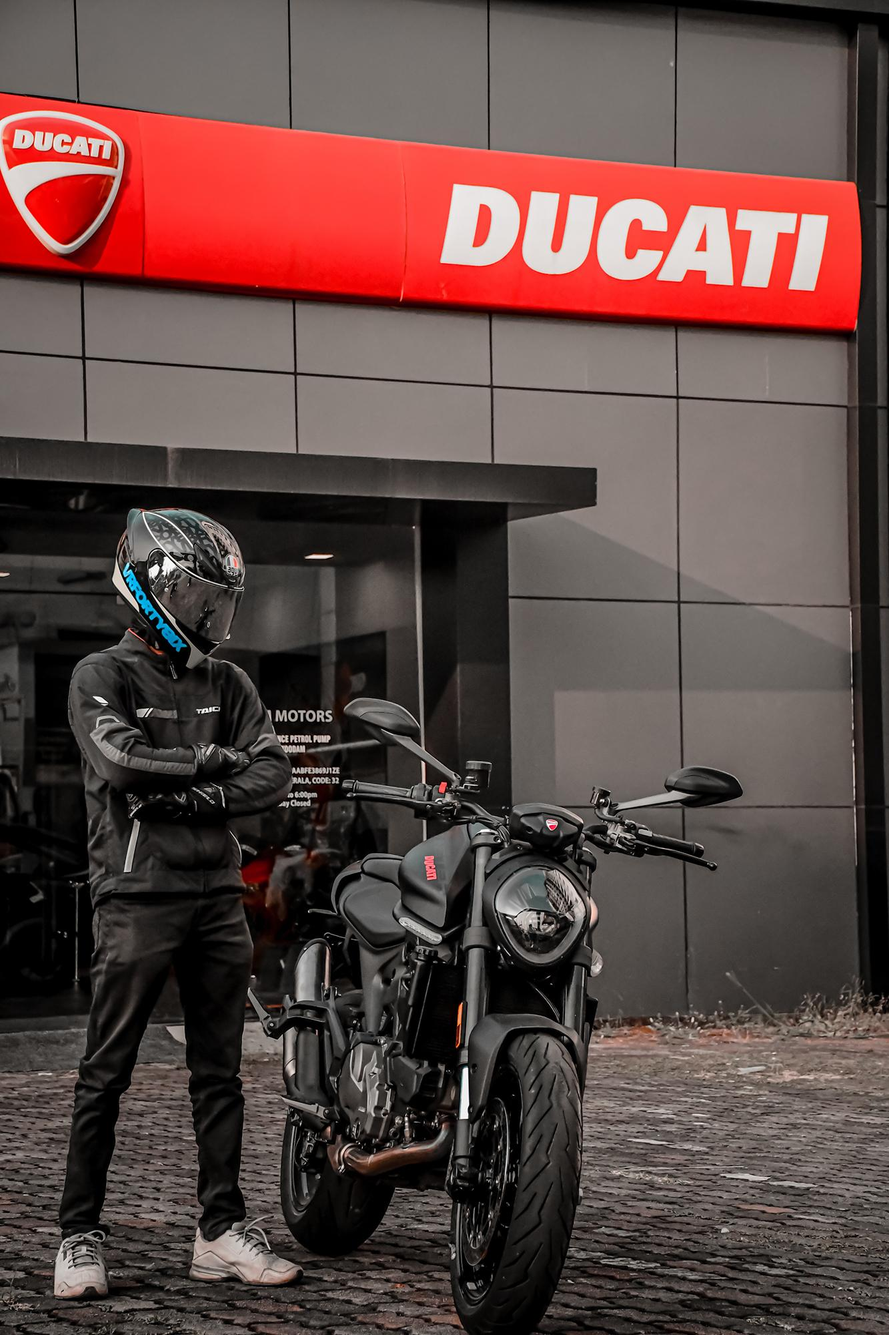helmet: (111, 506, 247, 670)
